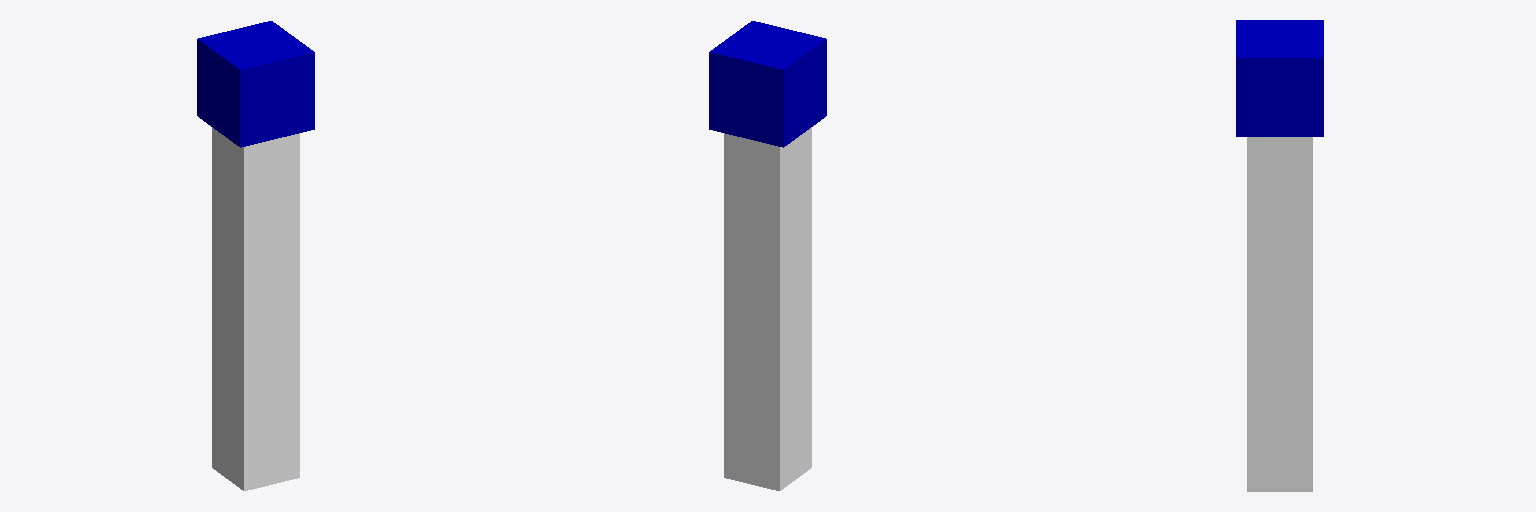
robot.urdf — physics:
<?xml version="1.0"?>
<robot name="physics">

  <link name="base">
    <visual>
      <geometry>
        <box size="0.2 0.2 0.2"/>
      </geometry>
      <origin xyz="0 0 0"/>
      <material name="blue">
        <color rgba="0 0 .8 1"/>
      </material>
    </visual>
    <inertial>
      <mass value="0"/>
      <inertia ixx="1.0" ixy="0.0" ixz="0.0" iyy="1.0" iyz="0.0" izz="1.0"/>
    </inertial>
  </link>

  <link name="pole">
    <visual>
      <geometry>
        <box size="0.15 0.15 1.0"/>	
      </geometry>
      <origin rpy="0 0 0" xyz="0 0 -0.5"/>
      <material name="white">
        <color rgba="1 1 1 1"/>
      </material>
    </visual>
    <inertial>
    <origin xyz="0 0 0.5"/>
      <mass value="0.1"/>
      <inertia ixx="1.0" ixy="0.0" ixz="0.0" iyy="1.0" iyz="0.0" izz="1.0"/>
    </inertial>
  </link>

  <joint name="base_to_pole" type="continuous">
    <axis xyz="0 1 0"/>
    <origin xyz="0.0 0.0 0"/>
    <parent link="base"/>
    <child link="pole"/>
    <dynamics damping=".025"/>
  </joint>

</robot>

--- Facts derived from the render (not from the file) ---
The picture shows the robot from 3 angles, left to right: view 1: azimuth 30°, elevation 25°; view 2: azimuth 150°, elevation 25°; view 3: azimuth 270°, elevation 25°; orthographic projection.
Robot: physics — 2 links, 1 joints (1 continuous); root link base; default pose: every joint at zero.
Visible links, largest first — view 1: pole, base; view 2: pole, base; view 3: pole, base.
Boxes of the visible links, left/top/right/bottom form: pole: left=212, top=127, right=299, bottom=490; base: left=197, top=21, right=314, bottom=147; pole: left=724, top=127, right=811, bottom=490; base: left=709, top=21, right=826, bottom=147; pole: left=1247, top=137, right=1312, bottom=491; base: left=1236, top=20, right=1323, bottom=136.
Bounding box of the posed robot: 0.2 × 0.2 × 1.1 m (x, y, z).
Geometry: primitives only (box / cylinder / sphere), no mesh files.